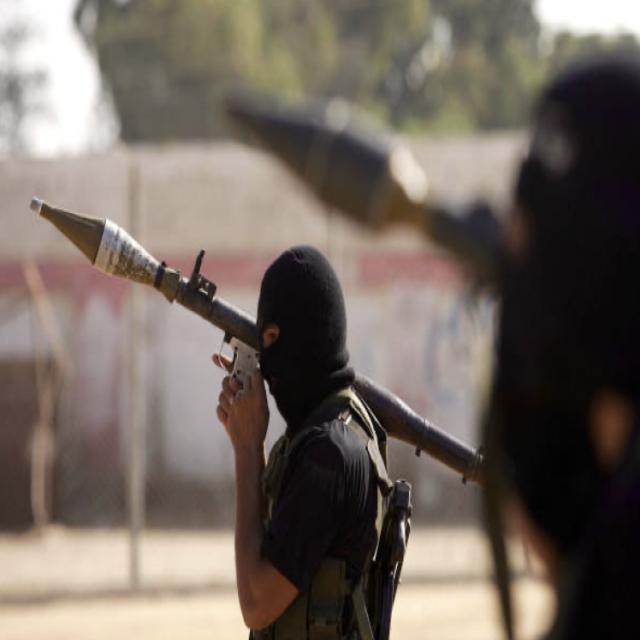bazooka: (11, 185, 519, 532)
